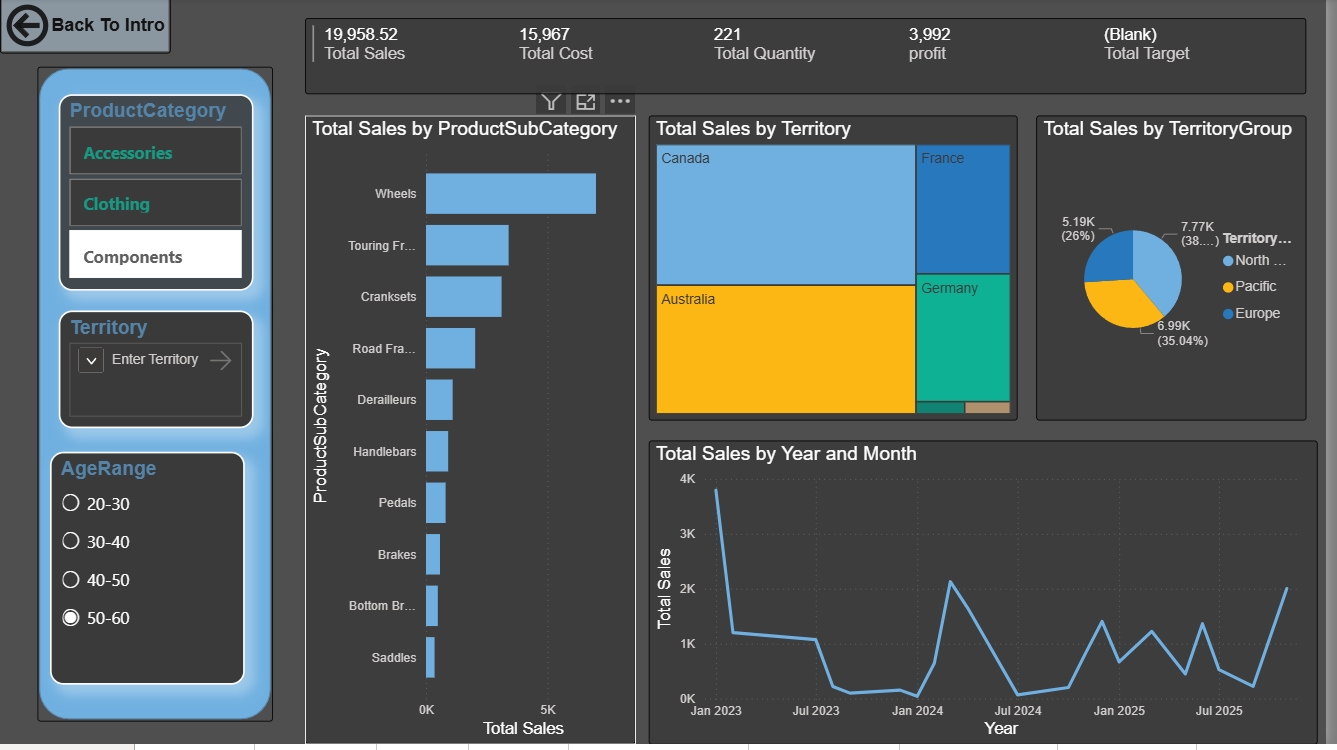

Layout of this report page (visuals, bound fields, positions):
{"tool":"powerbi","page":{"name":"Home","canvas":[1280,720],"ordinal":2},"visuals":[{"type":"clusteredBarChart","fields":{"Category":["SalesTrans.ProductSubCategory"],"Y":["Measures Table.Total Sales"]},"box":[294.7,113.7,319.2,606.5],"z":0},{"type":"pieChart","fields":{"Category":["SalesTrans.TerritoryGroup"],"Y":["Measures Table.Total Sales"]},"box":[1000.3,113.7,260.5,294.7],"z":1000},{"type":"lineChart","fields":{"Category":["SalesTrans.OrderDate.Variation.Date Hierarchy.Year","SalesTrans.OrderDate.Variation.Date Hierarchy.Month"],"Y":["Measures Table.Total Sales"]},"box":[626.1,426.8,645.7,293.5],"z":2000},{"type":"treemap","fields":{"Group":["SalesTrans.Territory"],"Values":["Measures Table.Total Sales"]},"box":[626.1,113.7,355.8,294.7],"z":3000},{"type":"multiRowCard","fields":{"Values":["Measures Table.Total Sales","Measures Table.Total Cost","Measures Table.Total Quantity","Measures Table.profit","Measures Table.Total Target"]},"box":[294.7,19.6,966,73.4],"z":4000},{"type":"shape","box":[36.7,66,227.4,632.2],"z":6000},{"type":"advancedSlicerVisual","fields":{"Values":["SalesTrans.ProductCategory"]},"box":[56.3,92.9,188.3,189.5],"z":7000},{"type":"textSlicer","fields":{"Values":["SalesTrans.Territory"]},"box":[56.3,302,188.3,113.7],"z":8000},{"type":"listSlicer","fields":{"Values":["SalesTrans.AgeRange"]},"box":[47.7,437.8,188.3,225],"z":9000},{"type":"actionButton","box":[0,0,165.1,53.8],"z":10000}]}

Visuals, with their boxes in screenshot pixels (x1, y1, x2, y2), scaled from the page's 1280x720 canvas onto the 1337x750 screenshot:
clusteredBarChart - SalesTrans.ProductSubCategory x Measures Table.Total Sales: box(308, 118, 641, 749)
pieChart - SalesTrans.TerritoryGroup x Measures Table.Total Sales: box(1045, 118, 1317, 425)
lineChart - SalesTrans.OrderDate.Variation.Date Hierarchy.Year x SalesTrans.OrderDate.Variation.Date Hierarchy.Month: box(654, 445, 1328, 749)
treemap - SalesTrans.Territory x Measures Table.Total Sales: box(654, 118, 1026, 425)
multiRowCard - Measures Table.Total Sales x Measures Table.Total Cost: box(308, 20, 1317, 97)
shape: box(38, 69, 276, 727)
advancedSlicerVisual - SalesTrans.ProductCategory: box(59, 97, 255, 294)
textSlicer - SalesTrans.Territory: box(59, 315, 255, 433)
listSlicer - SalesTrans.AgeRange: box(50, 456, 247, 690)
actionButton: box(0, 0, 172, 56)
